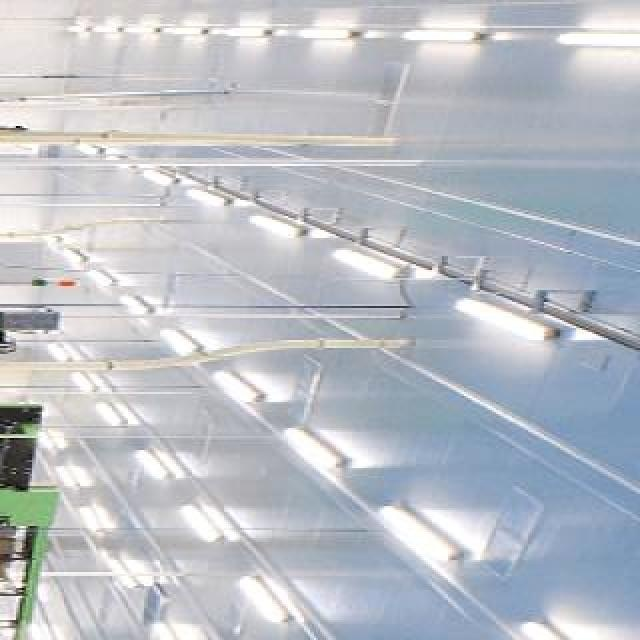fluorescent tube: (436, 282, 564, 360), (385, 495, 473, 578), (324, 245, 438, 291), (227, 573, 304, 631), (396, 14, 500, 51), (280, 422, 353, 471), (205, 365, 273, 411), (171, 500, 225, 555), (536, 26, 640, 54), (502, 620, 632, 640), (126, 438, 178, 487), (158, 326, 207, 369), (293, 20, 365, 49), (216, 16, 293, 42), (242, 217, 309, 246), (157, 13, 215, 45), (184, 182, 229, 222), (107, 291, 158, 325), (95, 393, 133, 435), (87, 15, 145, 40), (146, 622, 202, 640), (118, 22, 178, 38)
